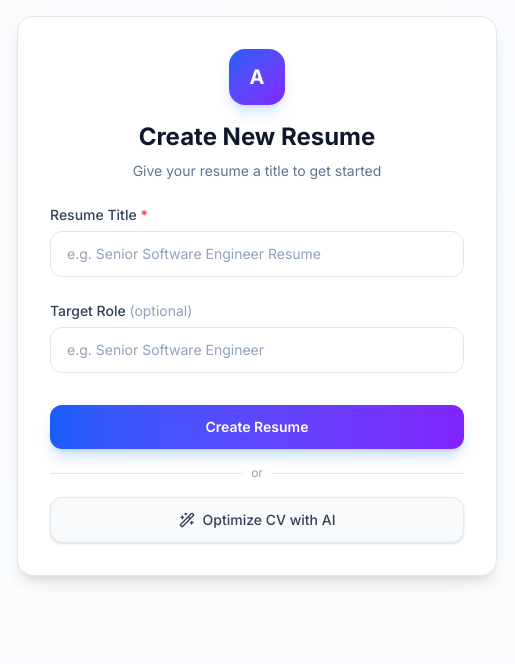
Create resume form — auth errors › shows safe error for authentication_required
The image size is (515, 664).
Type "My Resume" into the field labelled "Resume Title *" at [257, 254], box [50, 231, 464, 277]
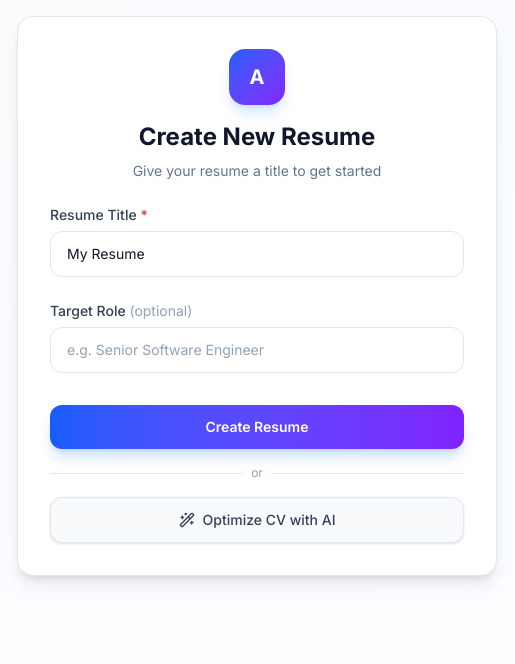
Click the button "Create Resume" at [257, 427], box [50, 405, 464, 449]
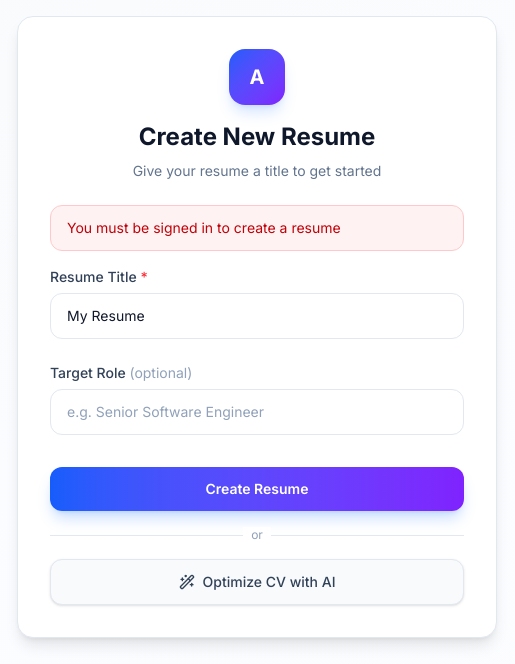
Expected: the text "You must be signed in to create a resume" is shown, [50, 205, 464, 251]
